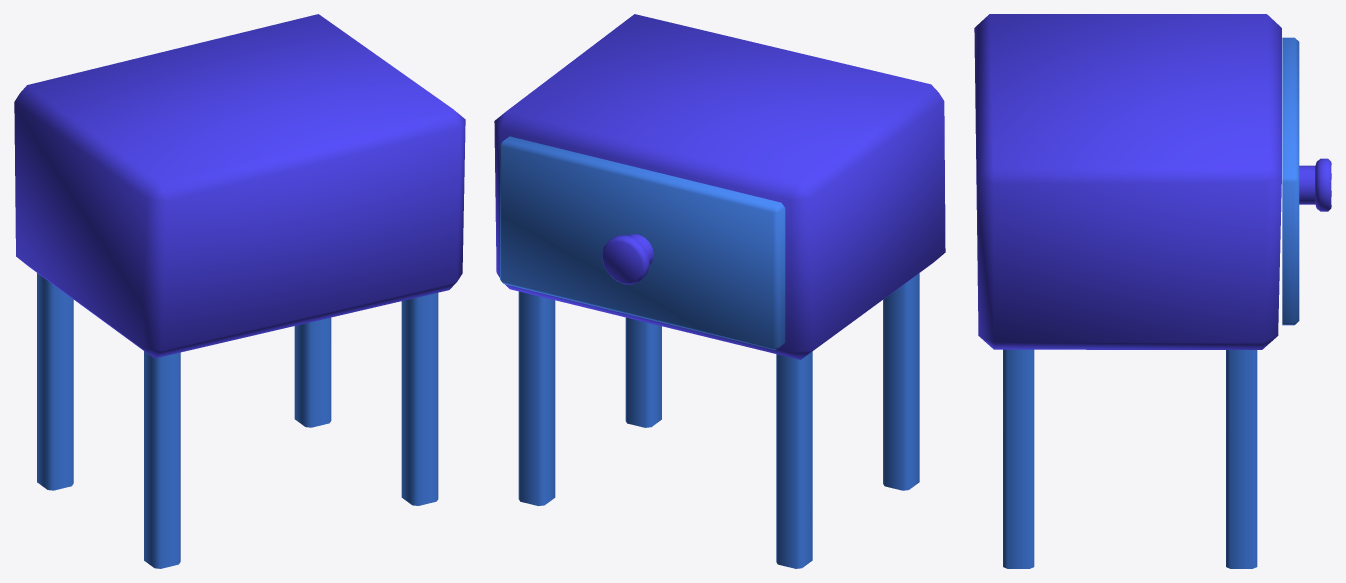
File: Table_Side_01.glb
3 renders of one model, left to right at view 1: azimuth 30°, elevation 25°; view 2: azimuth 150°, elevation 25°; view 3: azimuth 270°, elevation 25°, orthographic. The views are drawn at different scales.
Visible parts, largest first — view 1: SideTable; view 2: SideTable; view 3: SideTable.
Part boxes in pixels (left/top/right/bottom): SideTable: left=14, top=14, right=465, bottom=568; SideTable: left=494, top=14, right=945, bottom=568; SideTable: left=974, top=14, right=1331, bottom=568.
Bounding box in the file's own units: 0.6267 × 0.7265 × 0.5747.
Materials: 1 (1 with a texture image).
